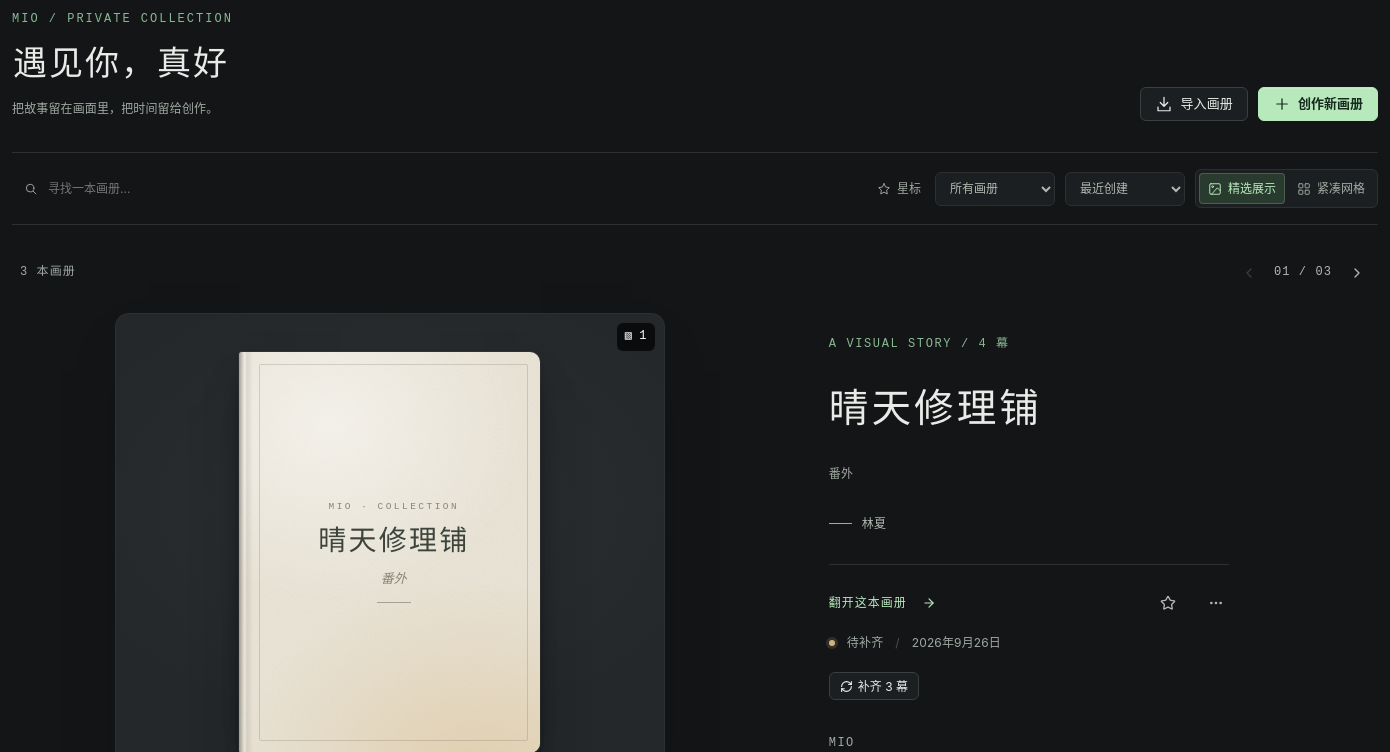
Test: WorksPage showcase › stars a book and filters the shelf to starred ones
Expected: the heading "晴天修理铺" is shown, [829, 386, 1042, 430]
Click the button named "星标收藏" at [1168, 603], box [1155, 590, 1181, 616]
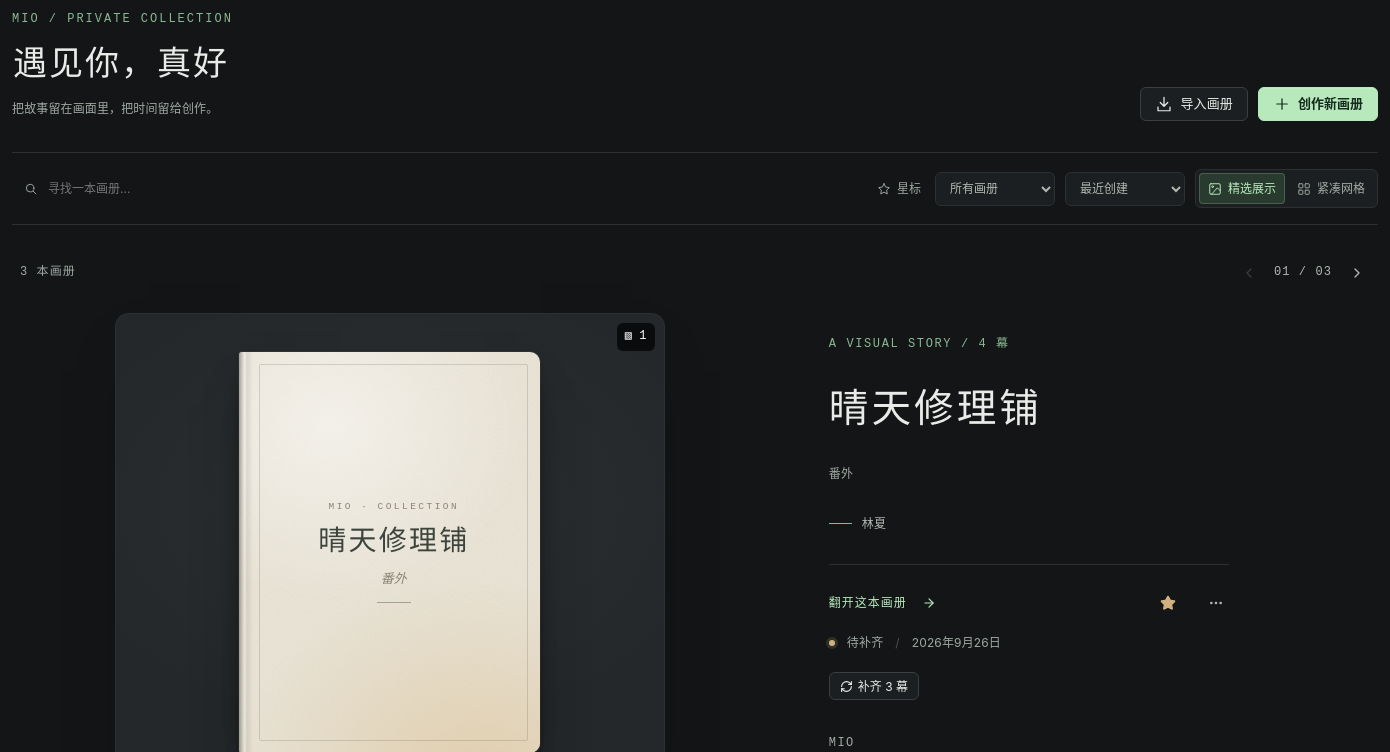
Expected: the button named "取消星标" is pressed, [1155, 590, 1181, 616]
Click the button "星标" at [899, 189], box [873, 174, 925, 204]
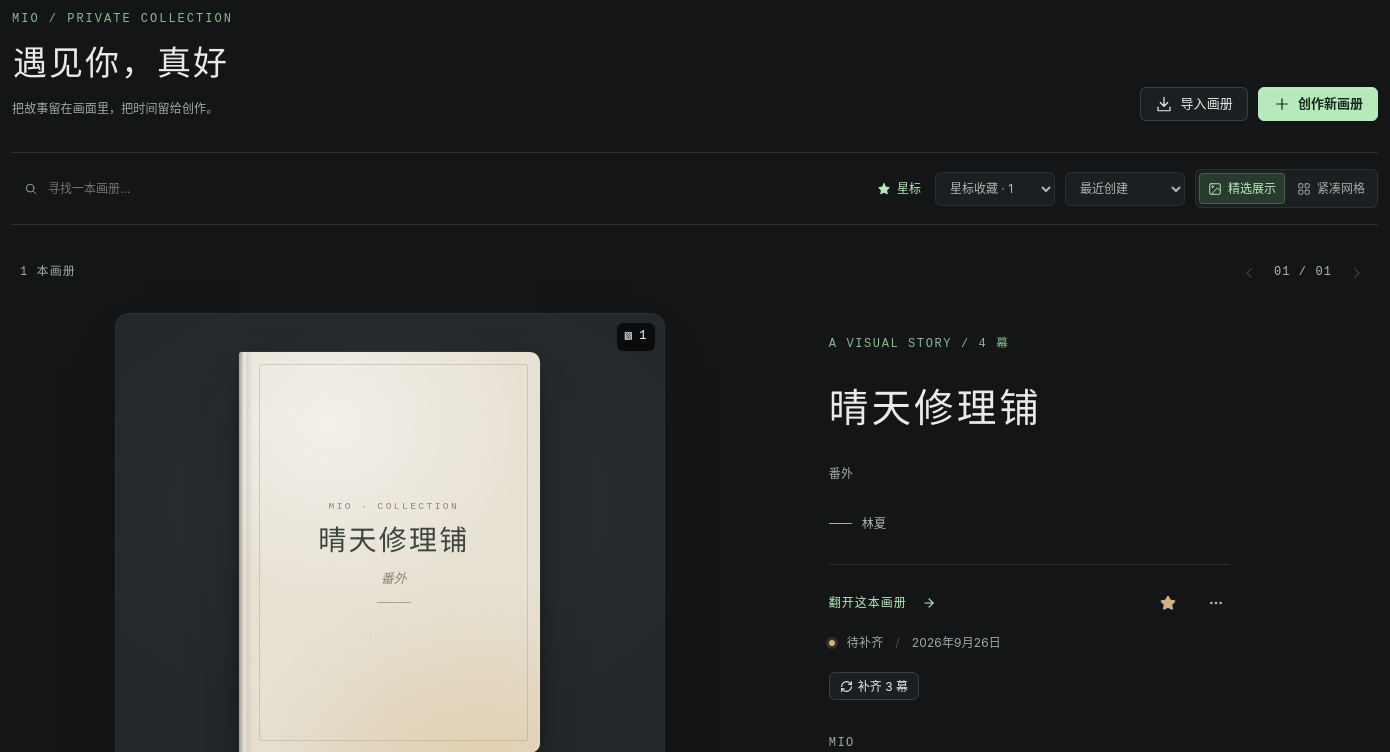
Expected: the text "1 本画册" is shown, [20, 262, 76, 284]
Expected: the text "01 / 01" is shown, [1271, 262, 1335, 284]
